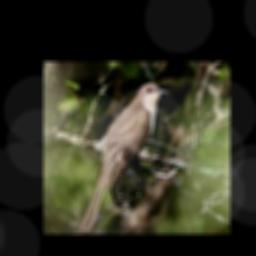Cuckoo: (81, 82, 168, 232)
